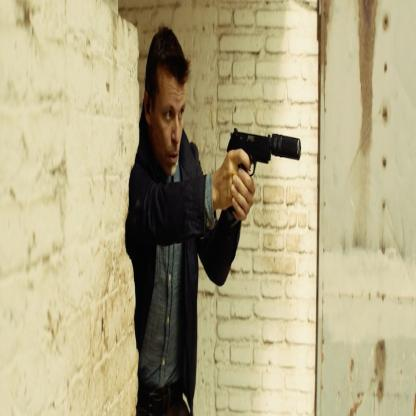gun: (220, 89, 317, 181)
